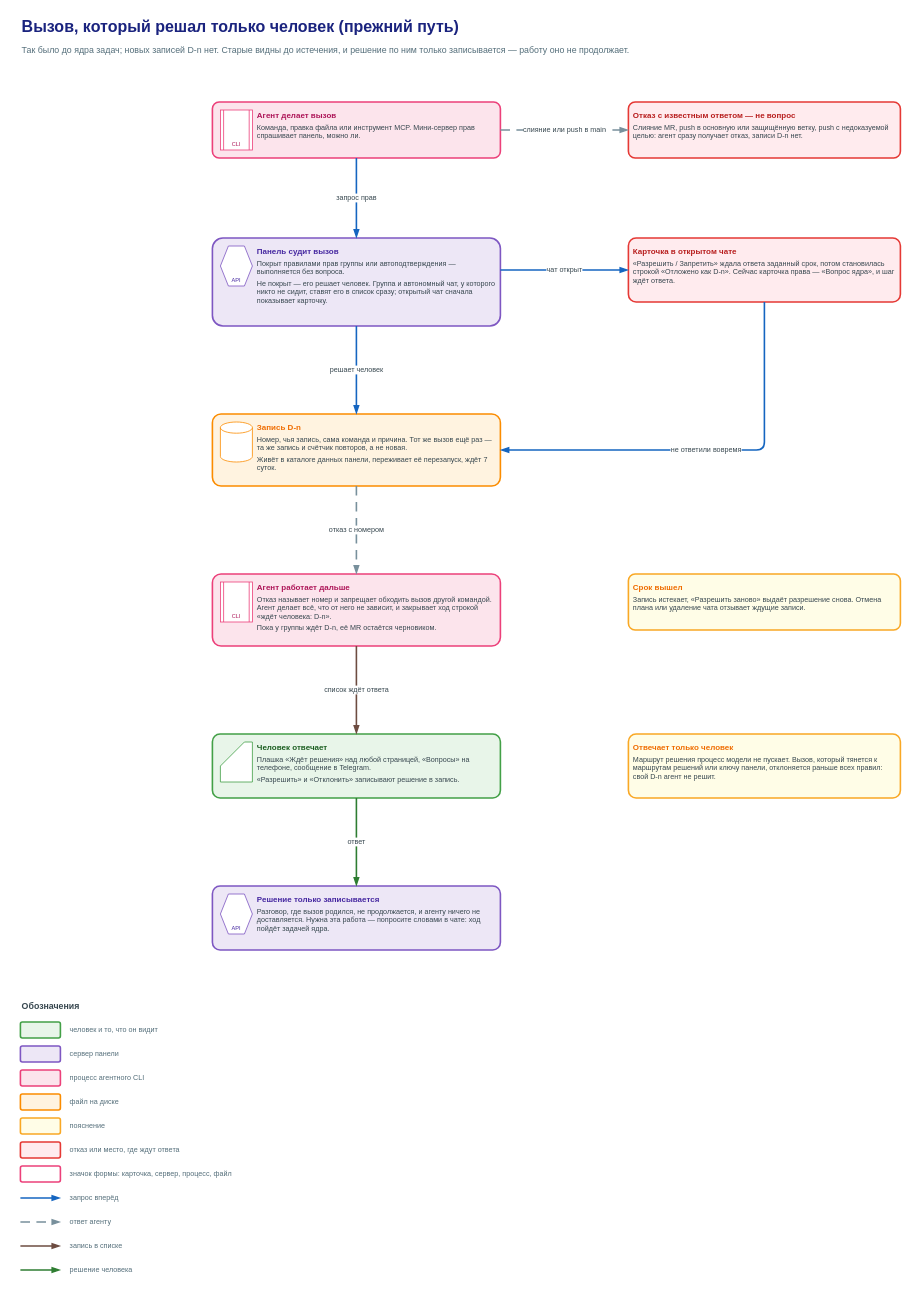
This 914x1291 diagram has some shape labels left out. The centre of each missing label's shape, as x and y in pixels:
D-n: point 236,441
вы: point 236,761
